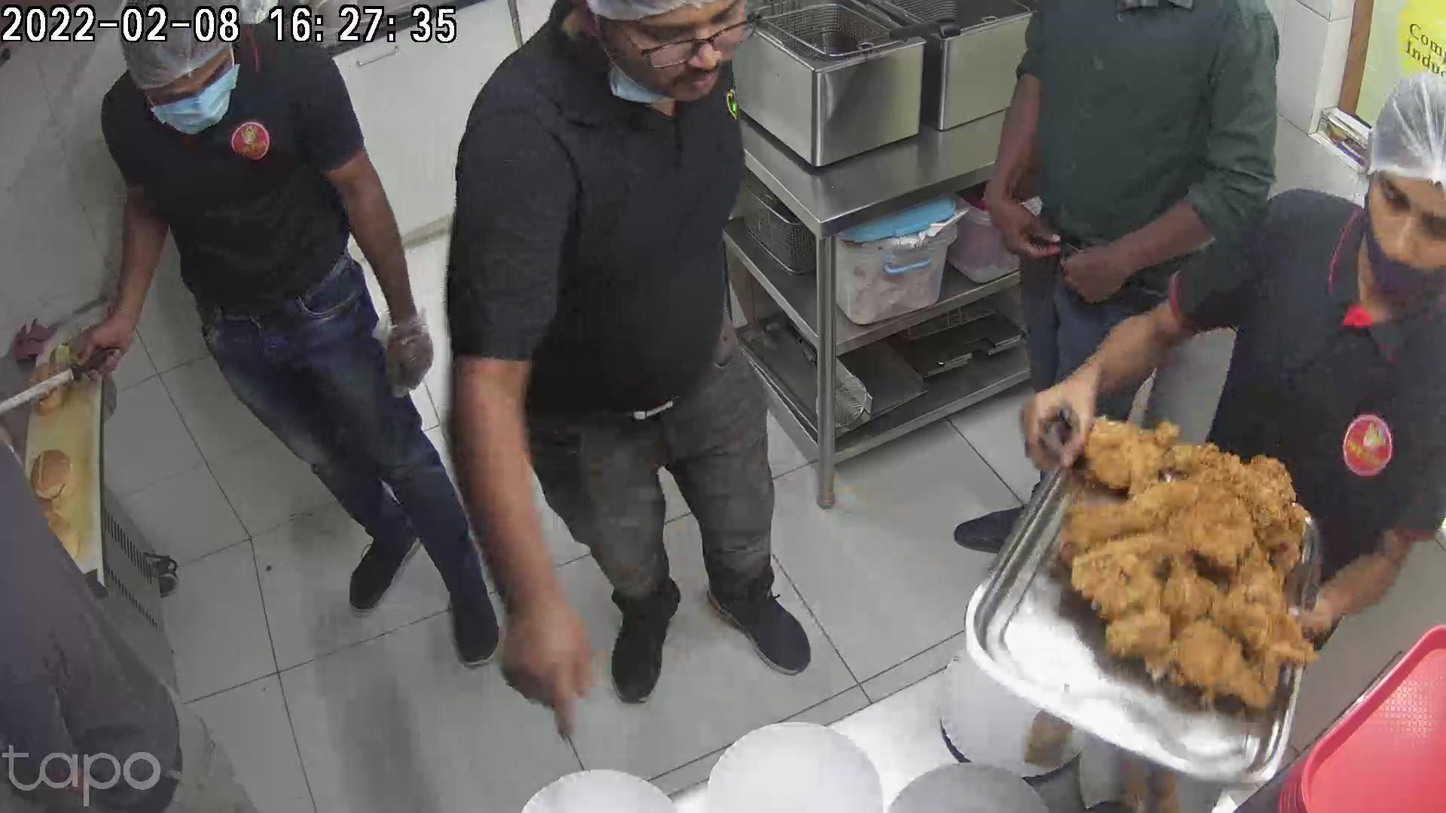gloves: (384, 292, 434, 395)
